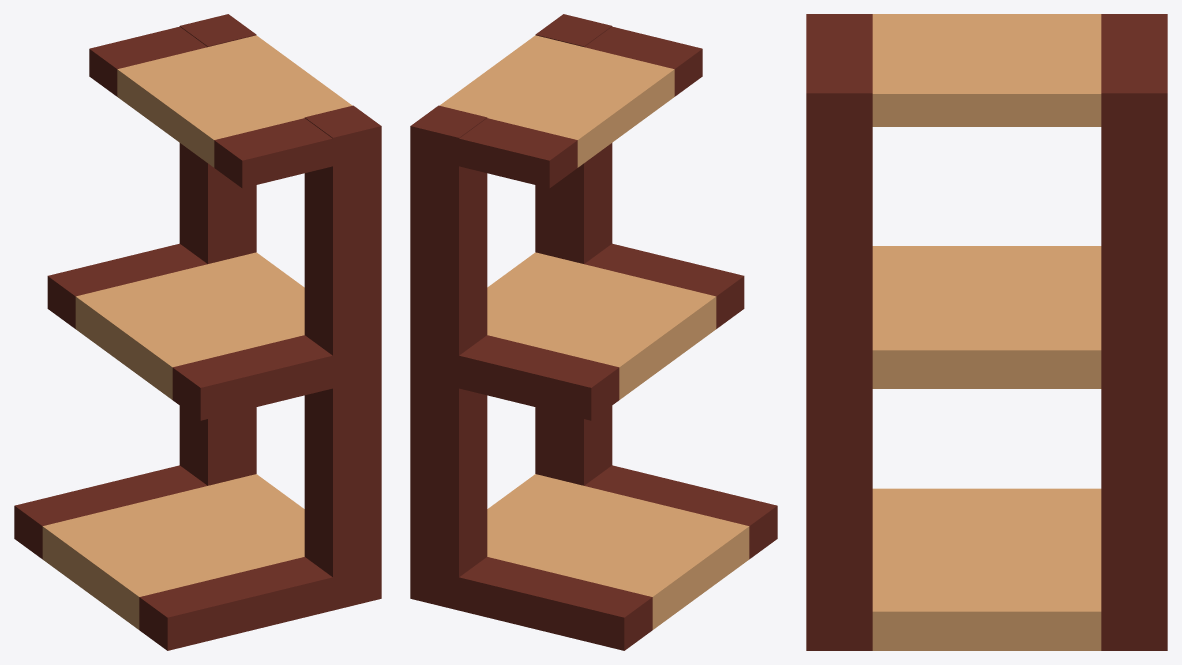
The model's file is Wall_rack.fbx.
3 views of the same model, side by side, from view 1: azimuth 30°, elevation 25°; view 2: azimuth 150°, elevation 25°; view 3: azimuth 270°, elevation 25° (orthographic). The views are drawn at different scales.
Visible parts, largest first — view 1: Wall rack; view 2: Wall rack; view 3: Wall rack.
Part boxes in pixels (<box>): Wall rack: <box>14,14,381,650</box>; Wall rack: <box>410,14,777,650</box>; Wall rack: <box>806,14,1167,650</box>.
Size of the model in its own units: 162 by 343 by 201.
